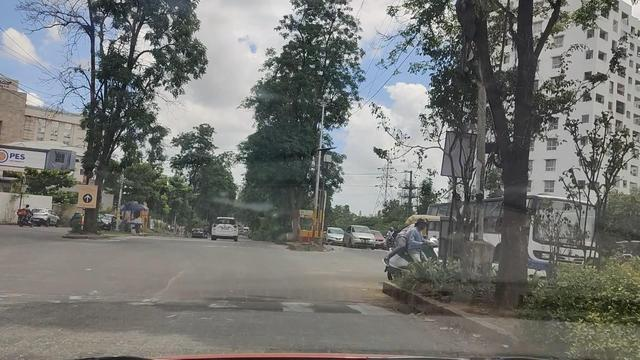RoadDamages: (154, 267, 187, 295)
SpeedBump: (0, 299, 465, 351)
